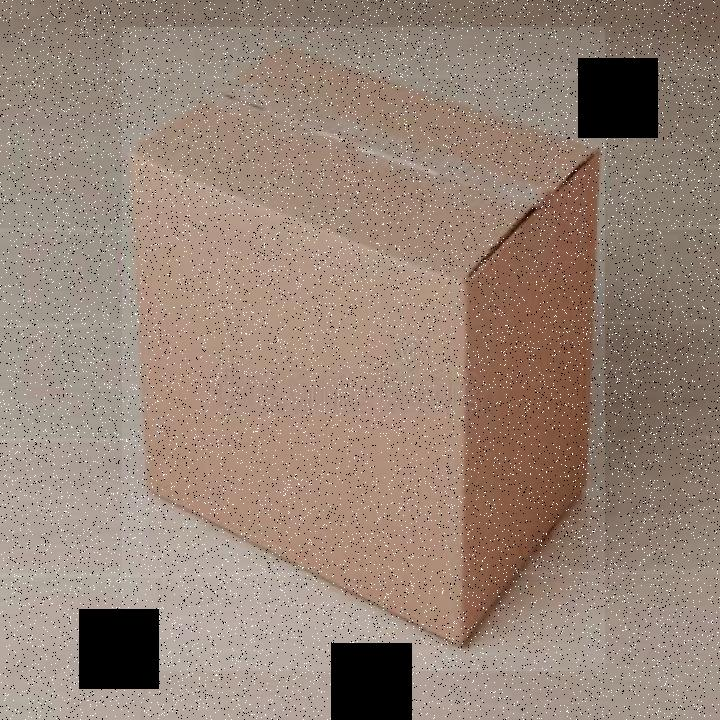box: (122, 27, 605, 671)
